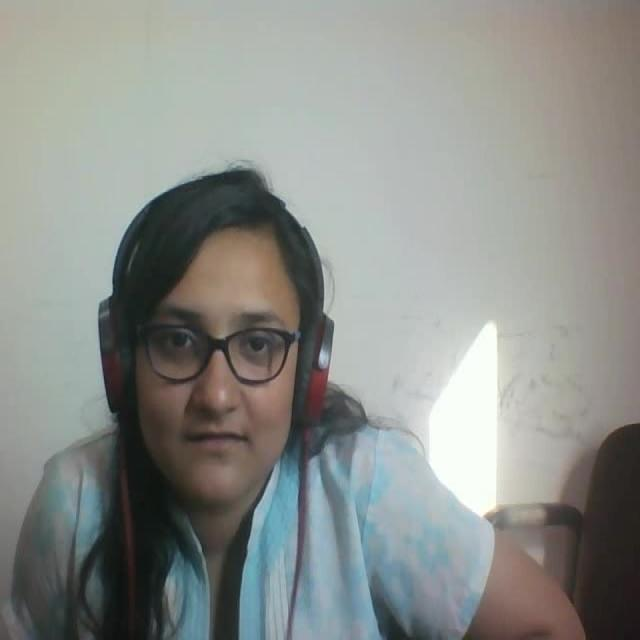Engaged: (91, 150, 344, 520)
